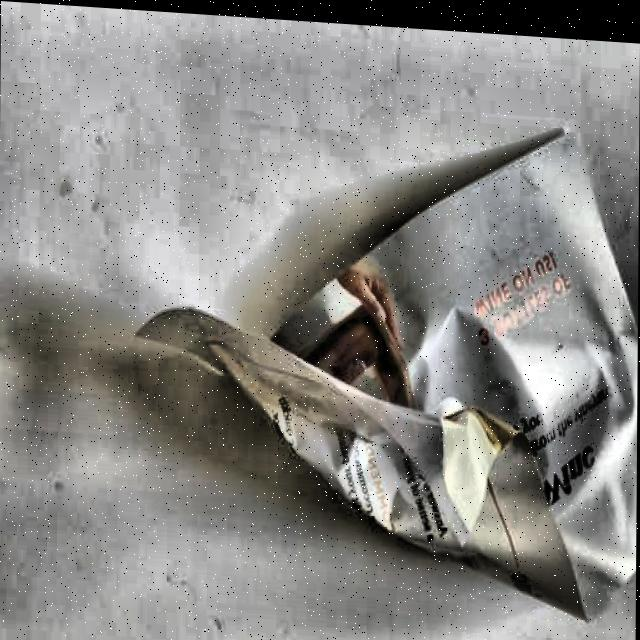paper: (130, 97, 639, 625)
